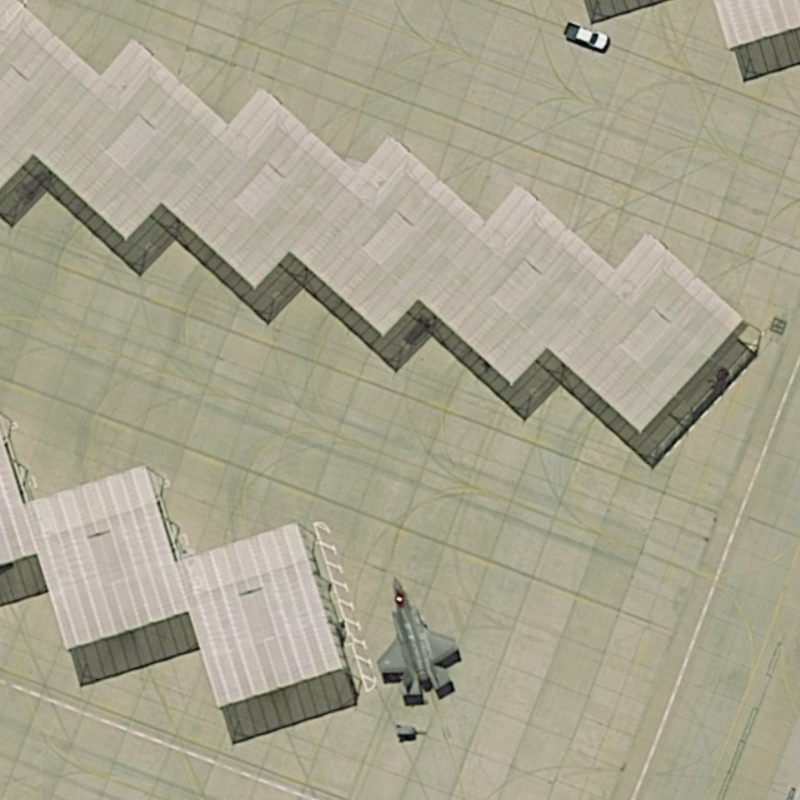A15: (368, 563, 466, 710)
